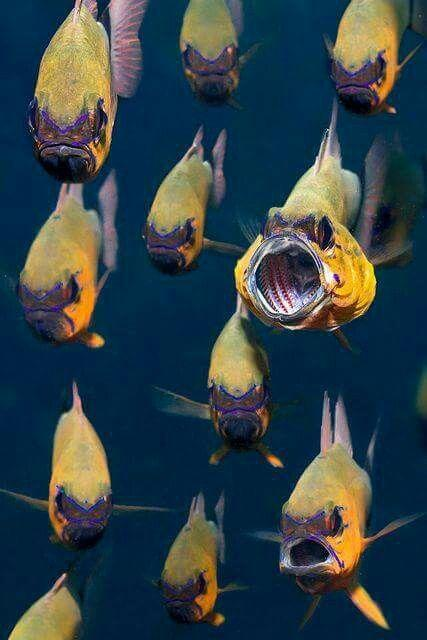fish: (246, 387, 423, 631), (232, 96, 377, 352), (0, 378, 173, 551), (150, 291, 287, 469), (29, 0, 144, 185), (15, 172, 117, 349), (142, 124, 248, 276), (157, 491, 247, 630), (321, 0, 424, 117), (177, 0, 262, 111), (7, 556, 111, 640)
